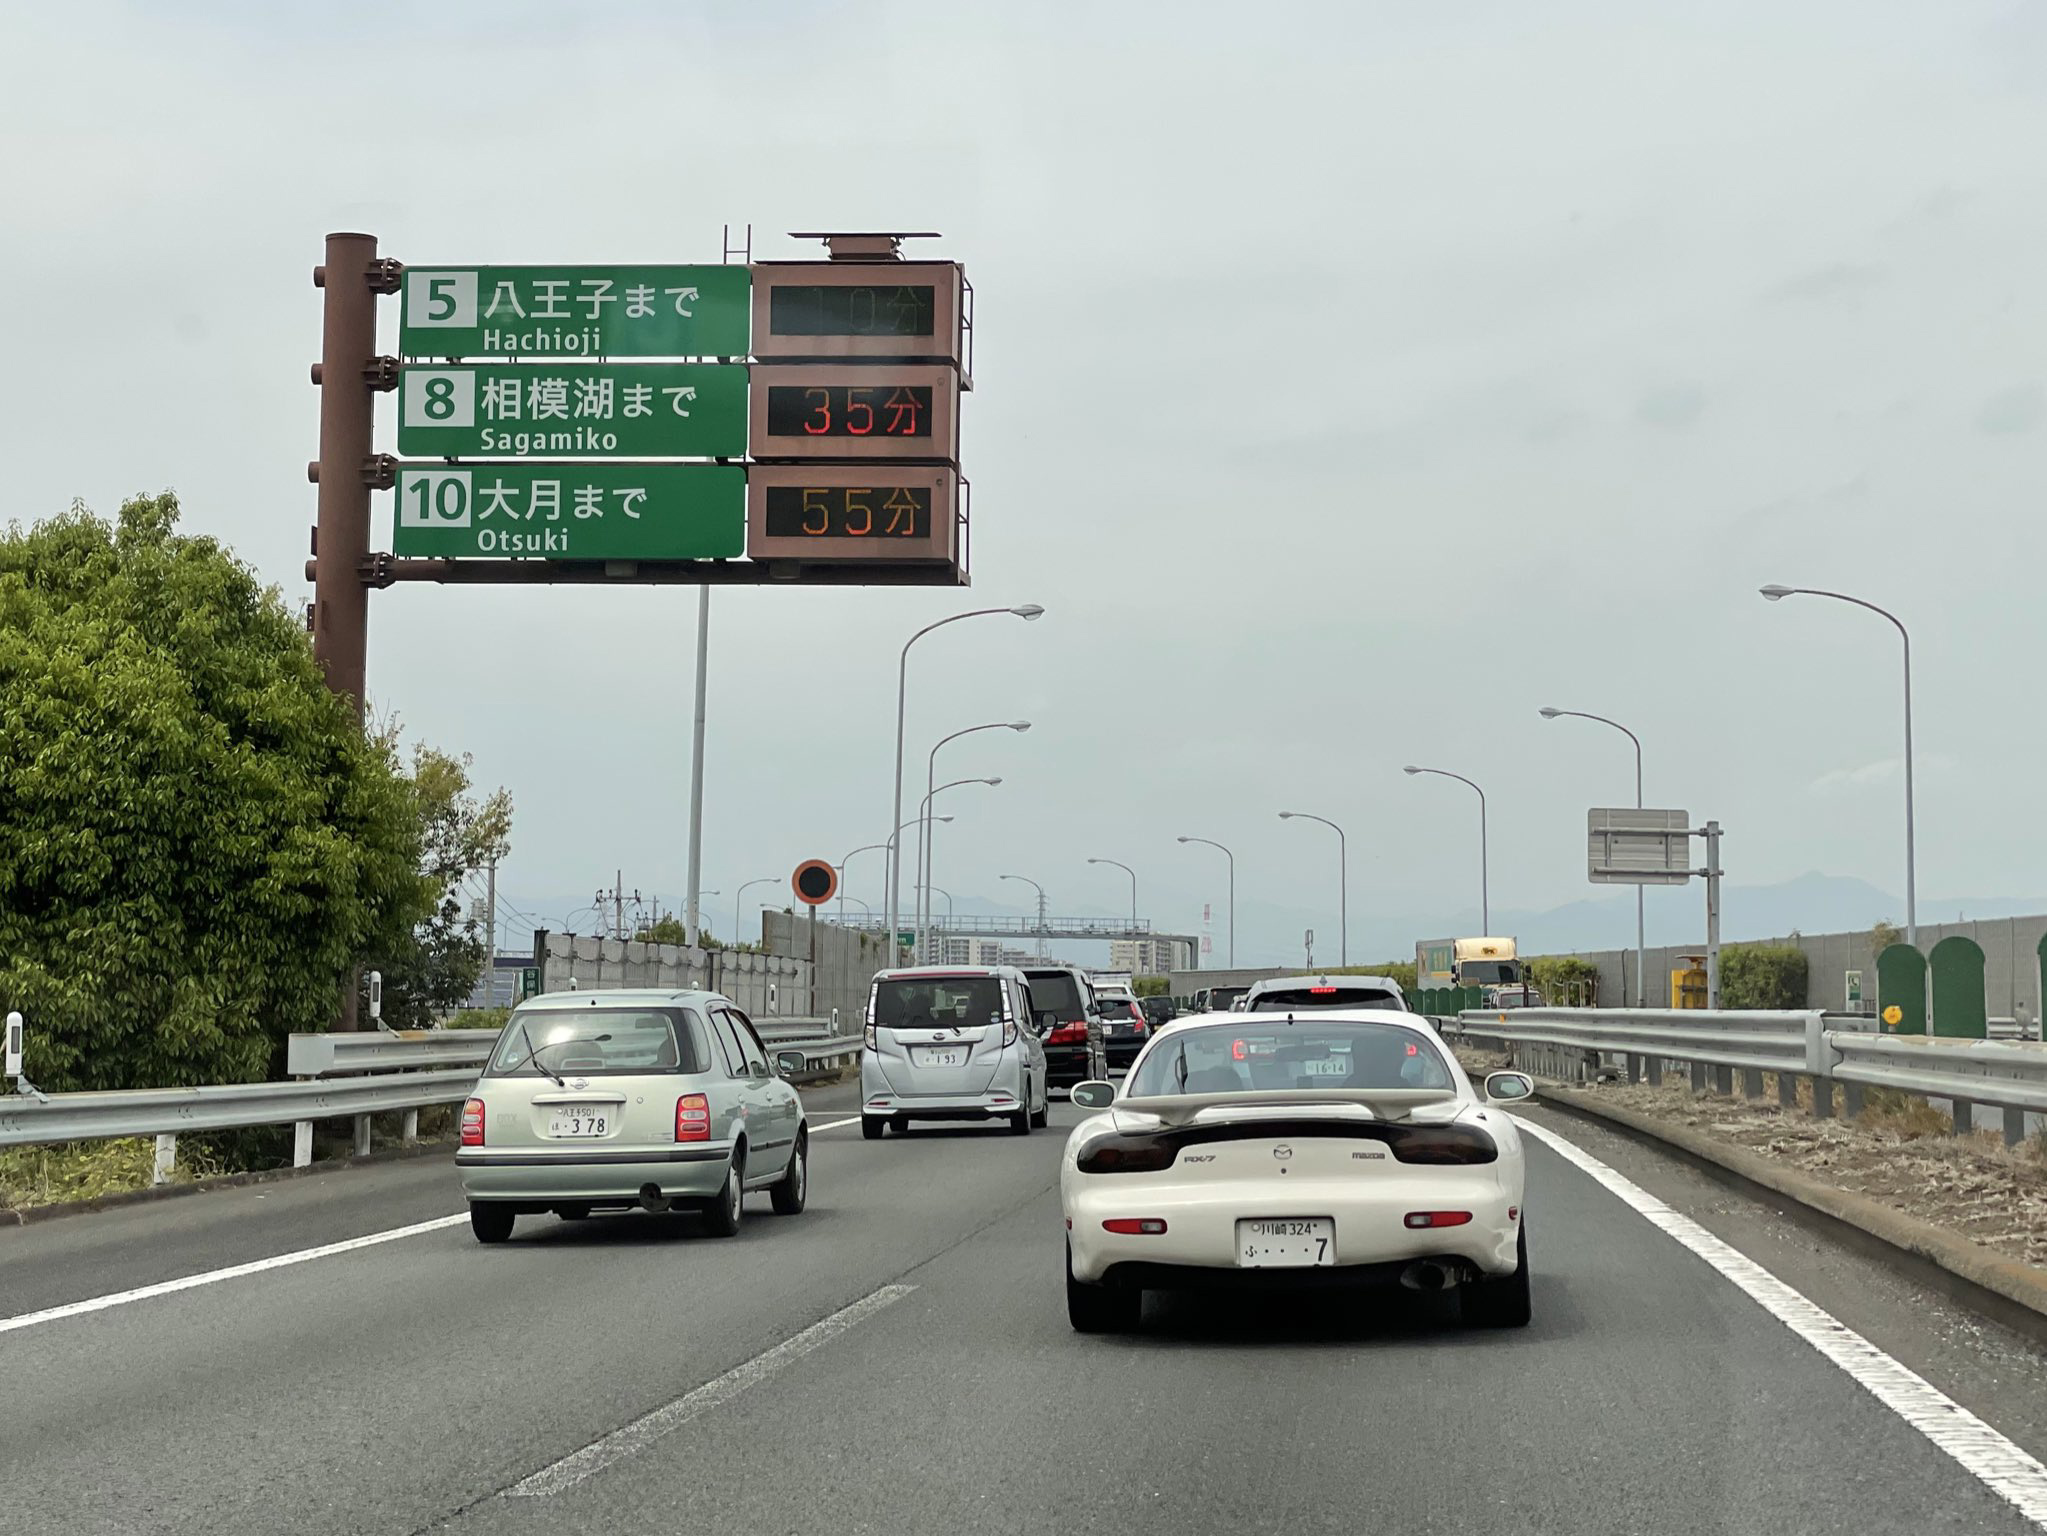plate: (1240, 1216, 1335, 1264), (548, 1101, 609, 1136), (924, 1045, 956, 1068)
